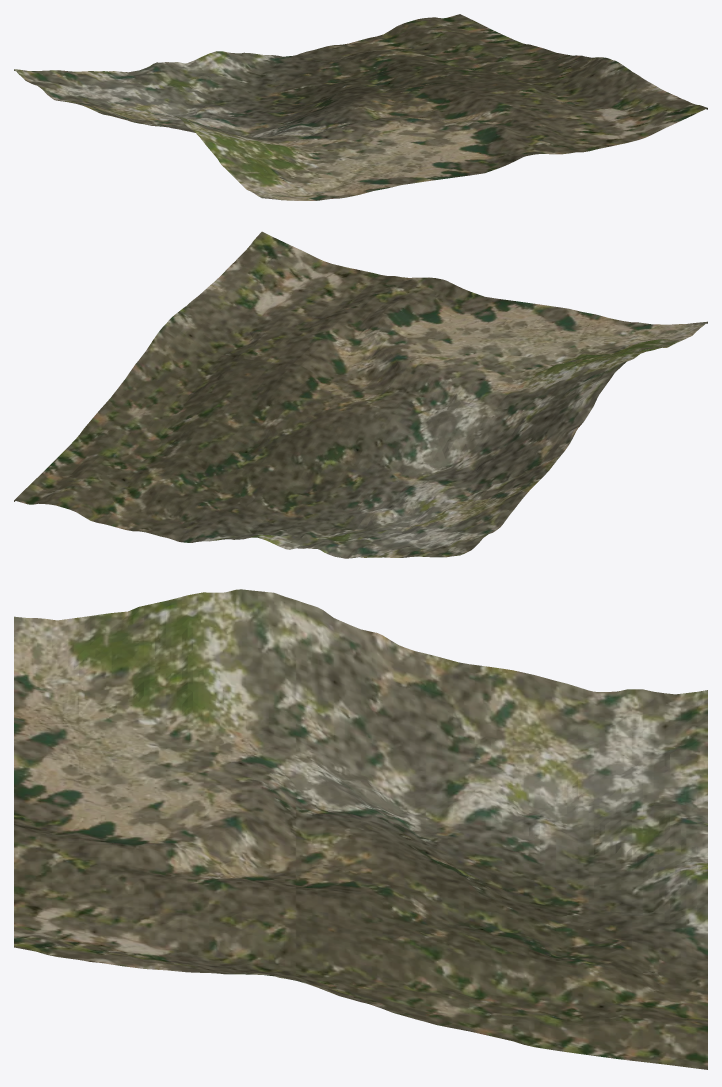
The picture shows the model from 3 angles, top to bottom: view 1: azimuth 30°, elevation 25°; view 2: azimuth 150°, elevation 25°; view 3: azimuth 270°, elevation 25°; orthographic projection. The views are drawn at different scales.
Bounding box in the file's own units: 250 × 69.52 × 241.
Materials: 1 (1 with a texture image).
